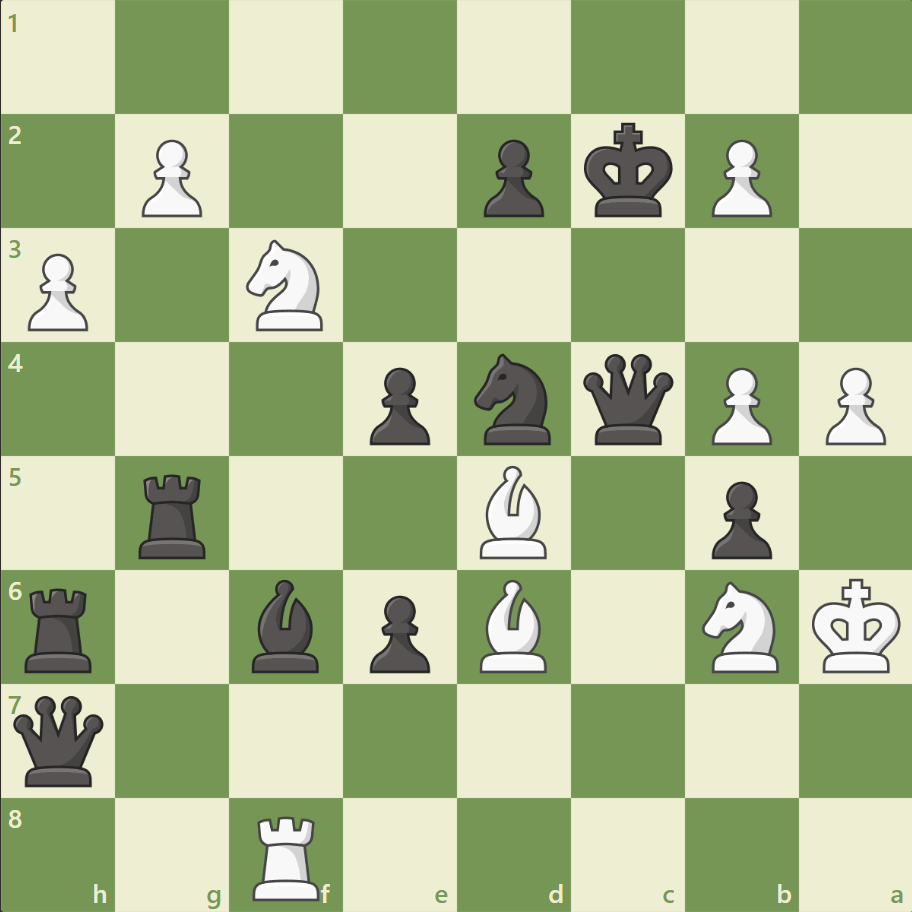B: (471, 460, 555, 563), (471, 574, 555, 676)
K: (806, 571, 906, 679)
N: (238, 234, 335, 337), (692, 575, 789, 677)
P: (701, 359, 776, 450), (20, 246, 95, 337), (701, 132, 776, 223), (133, 132, 208, 223), (815, 359, 889, 450)
R: (246, 806, 329, 904)
b: (244, 574, 328, 676)
k: (579, 117, 679, 225)
n: (465, 348, 562, 450)
p: (701, 473, 776, 564), (474, 132, 549, 223), (361, 586, 435, 677), (361, 359, 435, 450)
q: (578, 349, 677, 449), (10, 690, 109, 789)
r: (19, 579, 102, 676), (133, 466, 215, 563)
